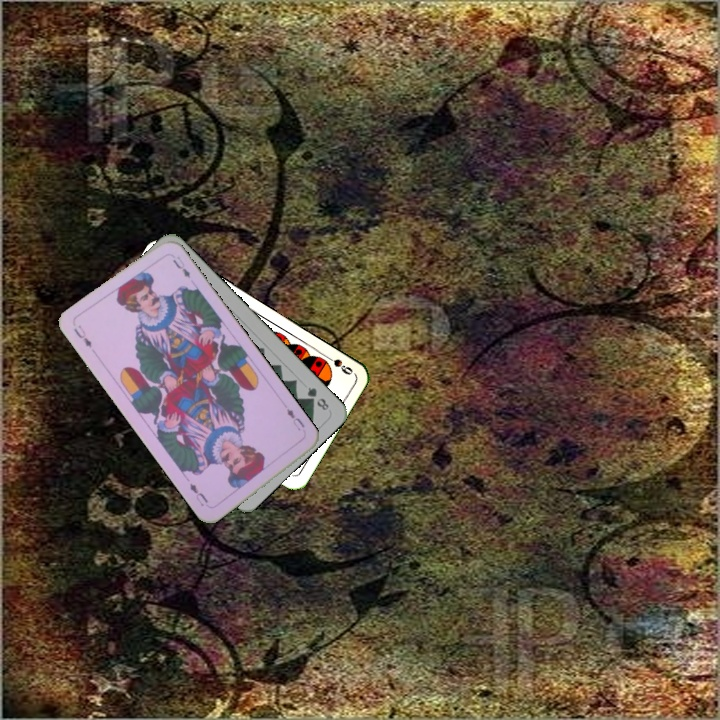EU: (282, 404, 307, 433), (69, 321, 94, 350)
G8: (303, 383, 331, 413)
S9: (319, 349, 355, 377)
